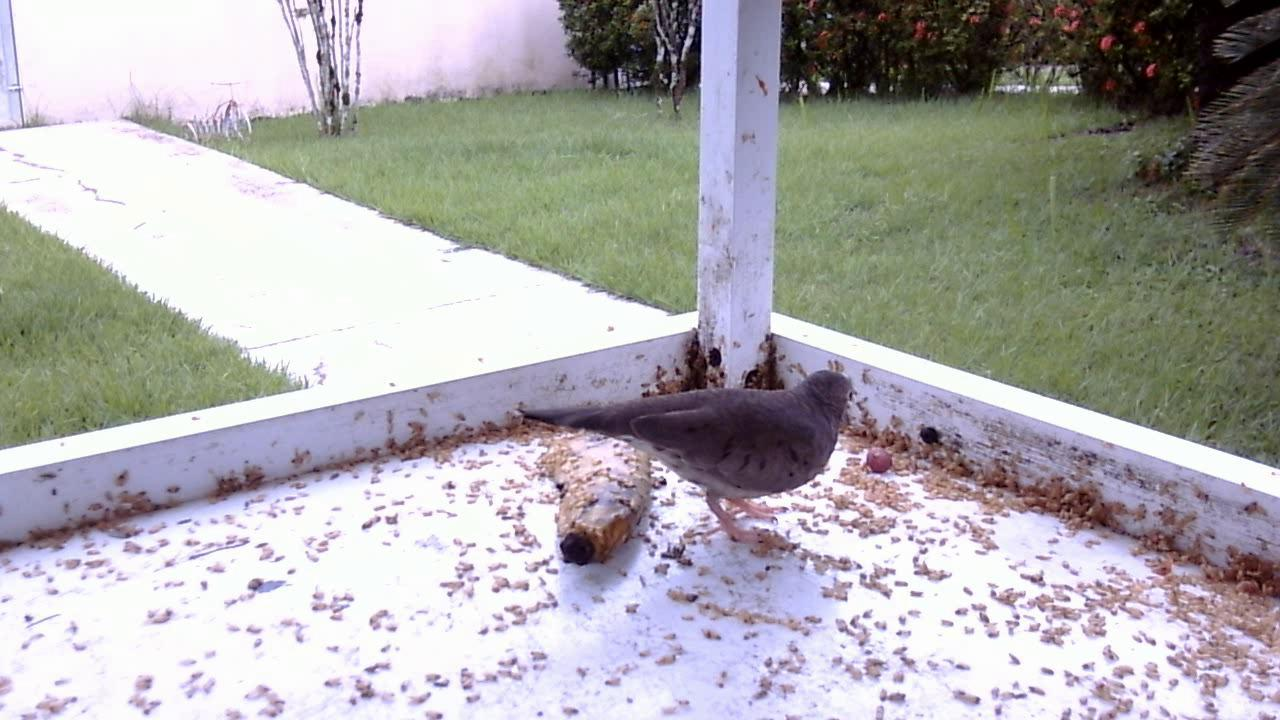rolinha: (517, 356, 860, 564)
